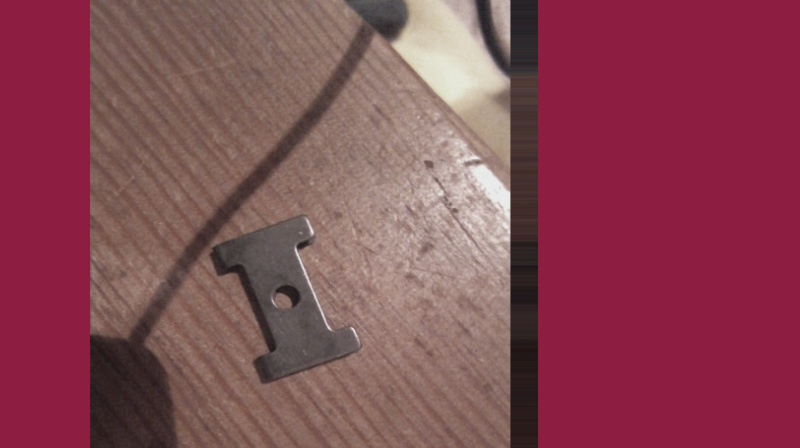O002: (207, 210, 363, 384)
